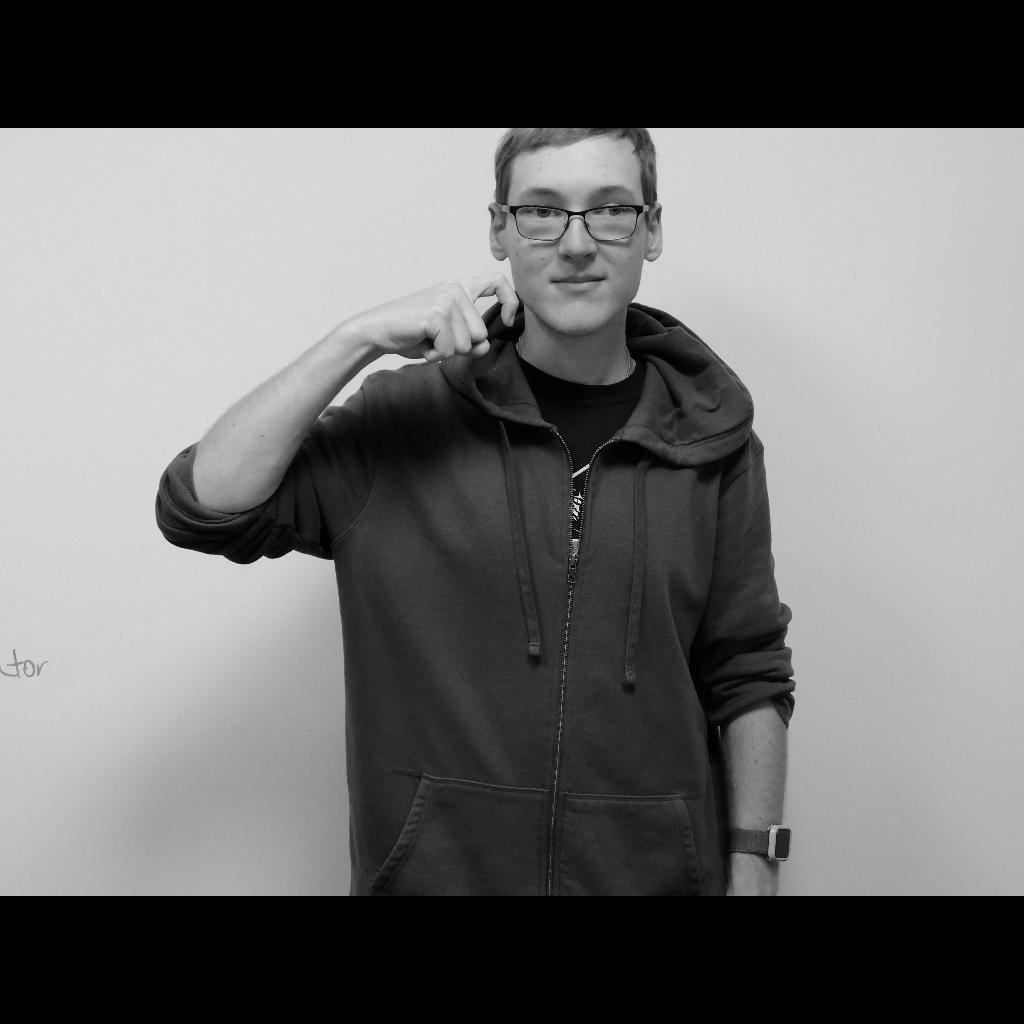apple: (374, 272, 520, 362)
